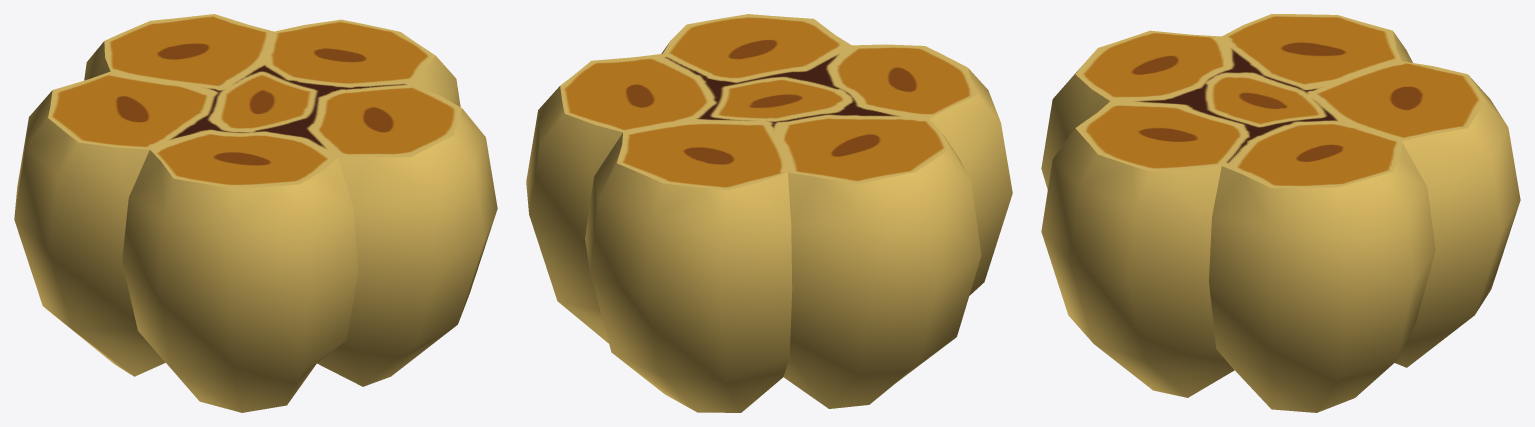
Rendered from Toi nuong.FBX.
3 views of the same model, side by side, from view 1: azimuth 30°, elevation 25°; view 2: azimuth 150°, elevation 25°; view 3: azimuth 270°, elevation 25° (orthographic).
Visible parts, largest first — view 1: Sphere045; view 2: Sphere045; view 3: Sphere045.
Part boxes in pixels (x1,y1,x2,y2): Sphere045: (14,14,497,412); Sphere045: (526,14,1012,412); Sphere045: (1041,14,1520,412).
Size of the model in its own units: 1.63 by 0.9421 by 1.62.
